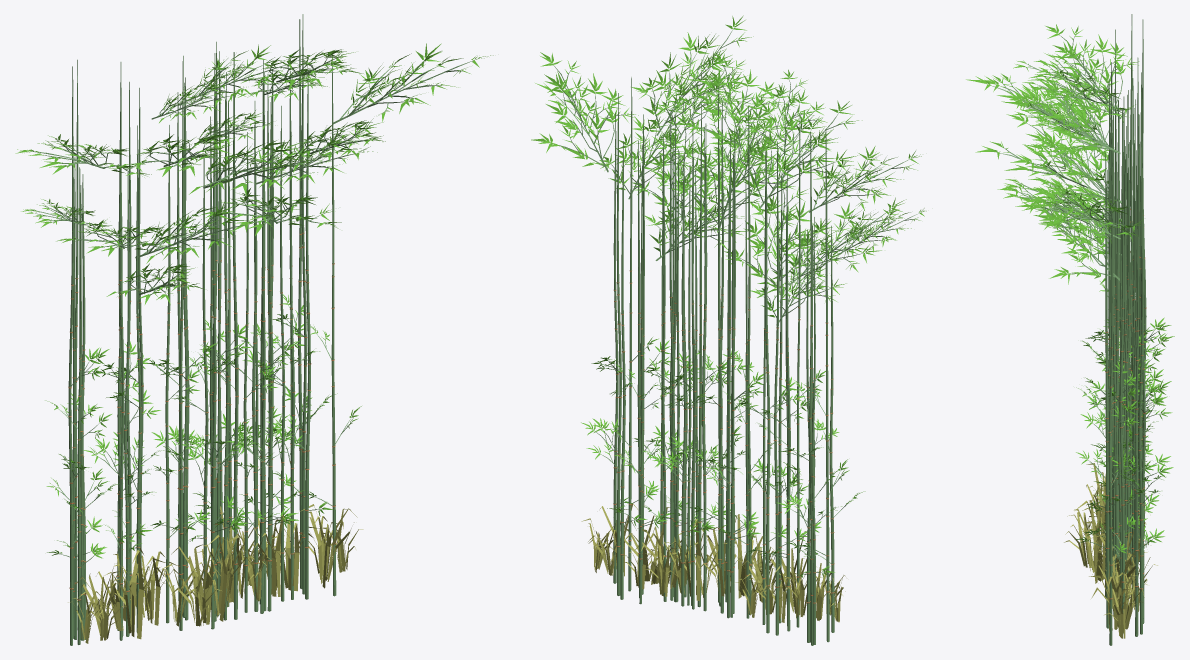
Rendered from bamboo_wall_main.glb.
The picture shows the model from 3 angles, left to right: view 1: azimuth 30°, elevation 25°; view 2: azimuth 150°, elevation 25°; view 3: azimuth 270°, elevation 25°; orthographic projection. The views are drawn at different scales.
Visible parts, largest first — view 1: bamboo_wall_front.002, bamboo_wall_front, bamboo_wall_front.001, bamboo_wall_front.003; view 2: bamboo_wall_front.002, bamboo_wall_front, bamboo_wall_front.001, bamboo_wall_front.003; view 3: bamboo_wall_front.002, bamboo_wall_front, bamboo_wall_front.001, bamboo_wall_front.003.
Part boxes in pixels (left/top/right/bottom): bamboo_wall_front.002: left=32, top=14, right=475, bottom=645; bamboo_wall_front: left=15, top=43, right=493, bottom=558; bamboo_wall_front.001: left=68, top=504, right=363, bottom=643; bamboo_wall_front.003: left=68, top=232, right=336, bottom=600; bamboo_wall_front.002: left=550, top=27, right=919, bottom=645; bamboo_wall_front: left=531, top=15, right=926, bottom=577; bamboo_wall_front.001: left=581, top=503, right=845, bottom=622; bamboo_wall_front.003: left=613, top=270, right=834, bottom=603; bamboo_wall_front.002: left=991, top=14, right=1162, bottom=645; bamboo_wall_front: left=966, top=24, right=1174, bottom=553; bamboo_wall_front.001: left=1064, top=463, right=1157, bottom=638; bamboo_wall_front.003: left=1105, top=209, right=1146, bottom=599.
Bounding box in the file's own units: 20.28 × 25.77 × 9.1.
